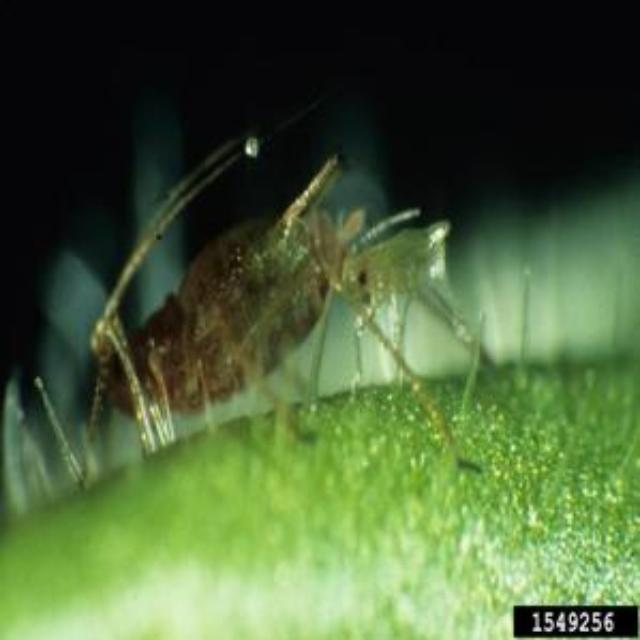Green peach aphid: (31, 90, 531, 498)
